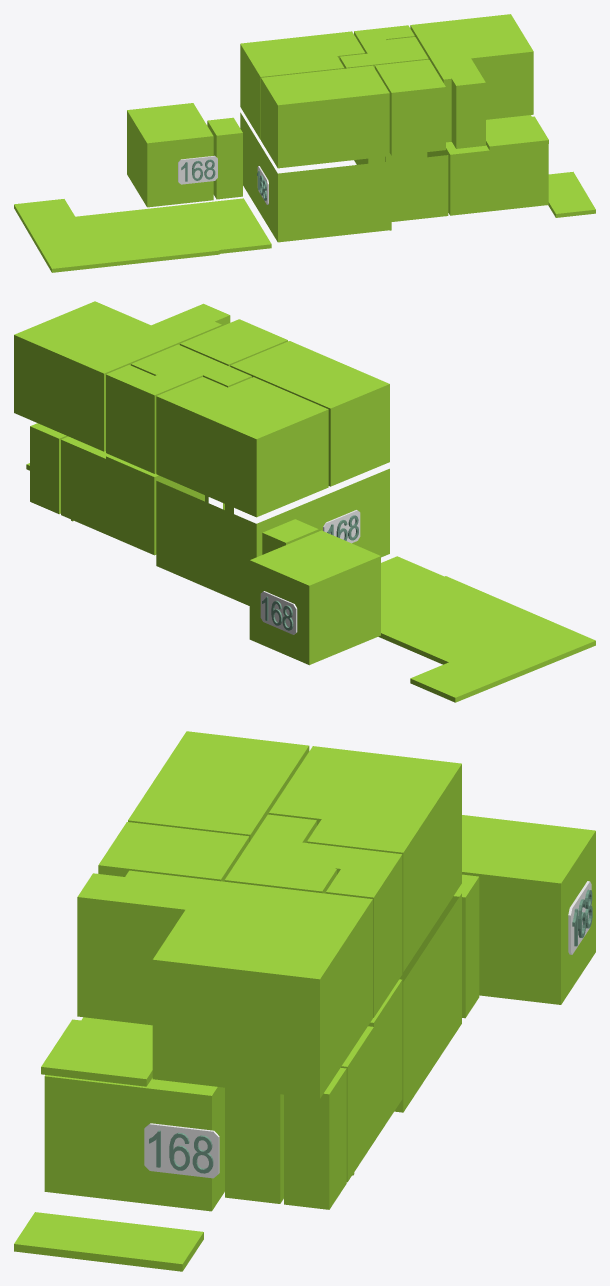
3 views of the same model, one above another, from view 1: azimuth 30°, elevation 25°; view 2: azimuth 150°, elevation 25°; view 3: azimuth 270°, elevation 25° (orthographic). The views are drawn at different scales.
Parts seen in each view (by area): view 1: g_1, g_12, g_7, g_11, g_5, g_0, g_9, g_6, g_4, g_8, g_13, g_14 (+3 smaller); view 2: g_6, g_12, g_11, g_1, g_5, g_7, g_2, g_10, g_9, g_8, g_3, g_4 (+2 smaller); view 3: g_11, g_6, g_5, g_0, g_2, g_7, g_1, g_14, g_3, g_9, g_10, g_8 (+3 smaller).
Boxes of the visible parts, bbox=[...] form: g_1: bbox=[240, 112, 448, 242]; g_12: bbox=[14, 198, 271, 272]; g_7: bbox=[261, 65, 389, 168]; g_11: bbox=[410, 14, 533, 148]; g_5: bbox=[127, 103, 213, 207]; g_0: bbox=[427, 115, 548, 215]; g_9: bbox=[375, 59, 445, 155]; g_6: bbox=[240, 31, 365, 139]; g_4: bbox=[207, 117, 242, 199]; g_8: bbox=[339, 37, 428, 68]; g_13: bbox=[486, 116, 548, 150]; g_14: bbox=[548, 171, 595, 217]; g_6: bbox=[156, 377, 328, 517]; g_12: bbox=[378, 556, 595, 702]; g_11: bbox=[14, 301, 230, 451]; g_1: bbox=[156, 468, 389, 605]; g_5: bbox=[249, 530, 380, 665]; g_7: bbox=[230, 341, 389, 486]; g_2: bbox=[61, 436, 204, 555]; g_10: bbox=[106, 365, 181, 473]; g_9: bbox=[180, 319, 287, 366]; g_8: bbox=[131, 344, 251, 387]; g_3: bbox=[30, 423, 67, 514]; g_4: bbox=[262, 519, 318, 554]; g_11: bbox=[77, 870, 372, 1098]; g_6: bbox=[269, 746, 461, 972]; g_5: bbox=[462, 815, 595, 1004]; g_0: bbox=[44, 1017, 224, 1211]; g_2: bbox=[225, 979, 402, 1203]; g_7: bbox=[128, 731, 309, 841]; g_1: bbox=[394, 893, 461, 1112]; g_14: bbox=[14, 1212, 203, 1271]; g_3: bbox=[284, 1068, 346, 1209]; g_9: bbox=[98, 822, 249, 881]; g_10: bbox=[326, 848, 402, 1017]; g_8: bbox=[224, 814, 346, 893].
Bounding box in the file's own units: 19.42 × 5.35 × 10.52.
